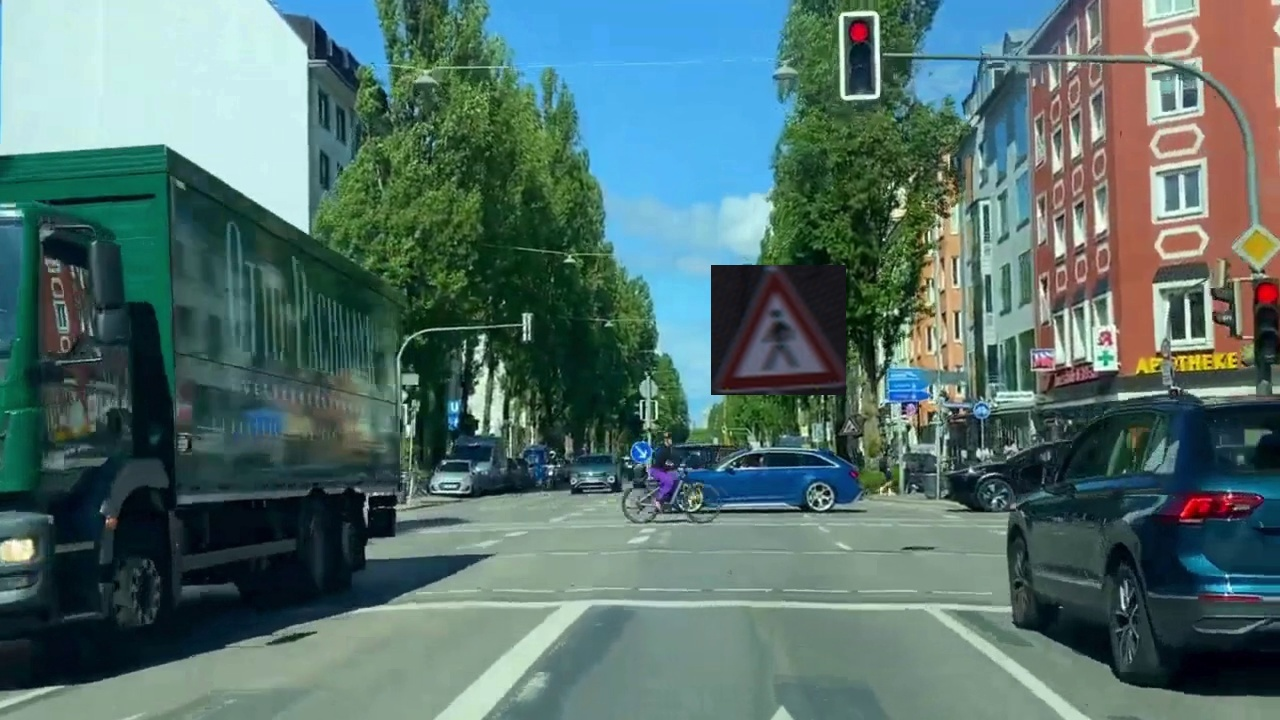Pedestrians: (711, 265, 846, 395)
